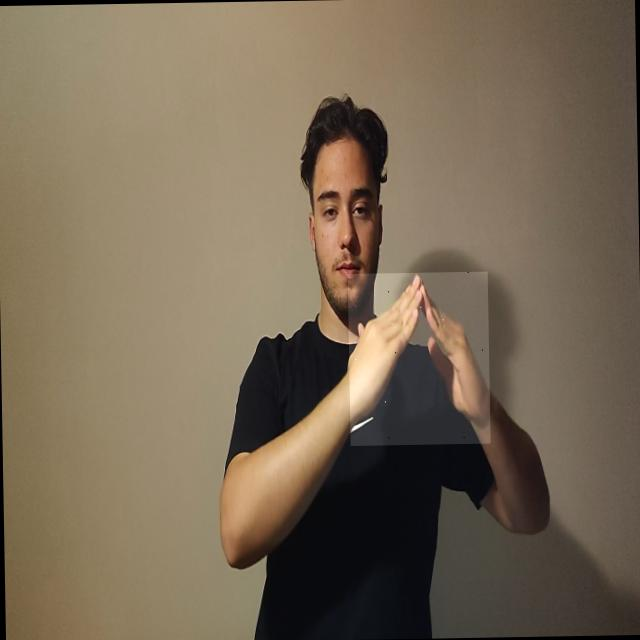house: (347, 272, 490, 446)
